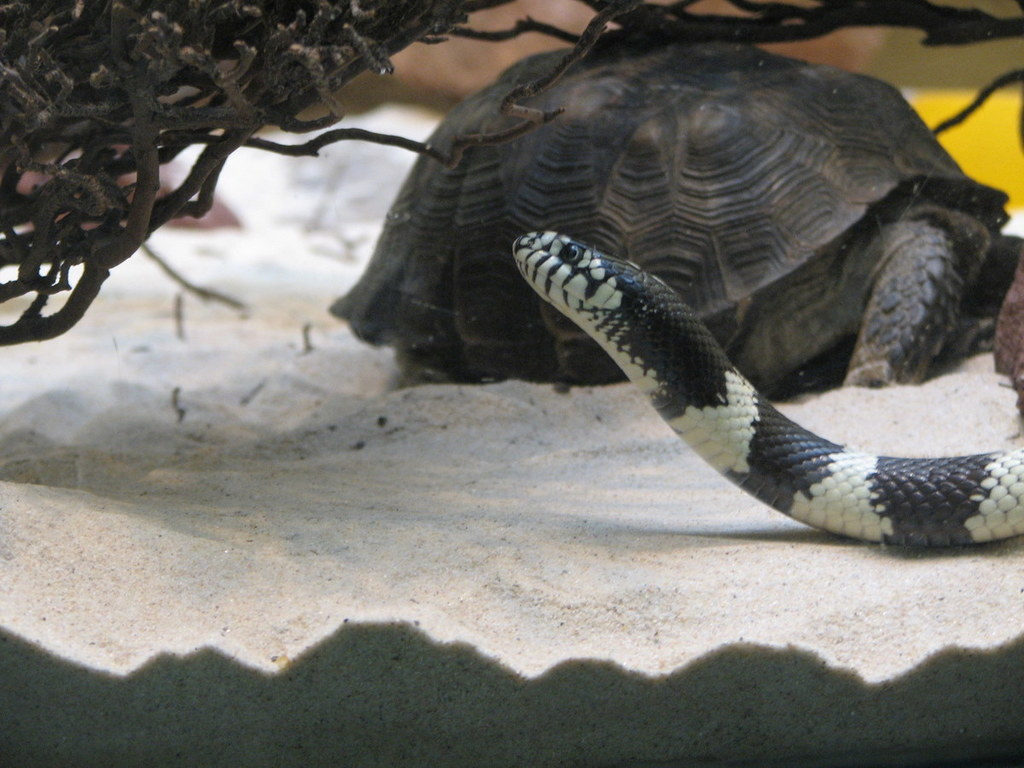Sea turtles: (319, 28, 1017, 391)
